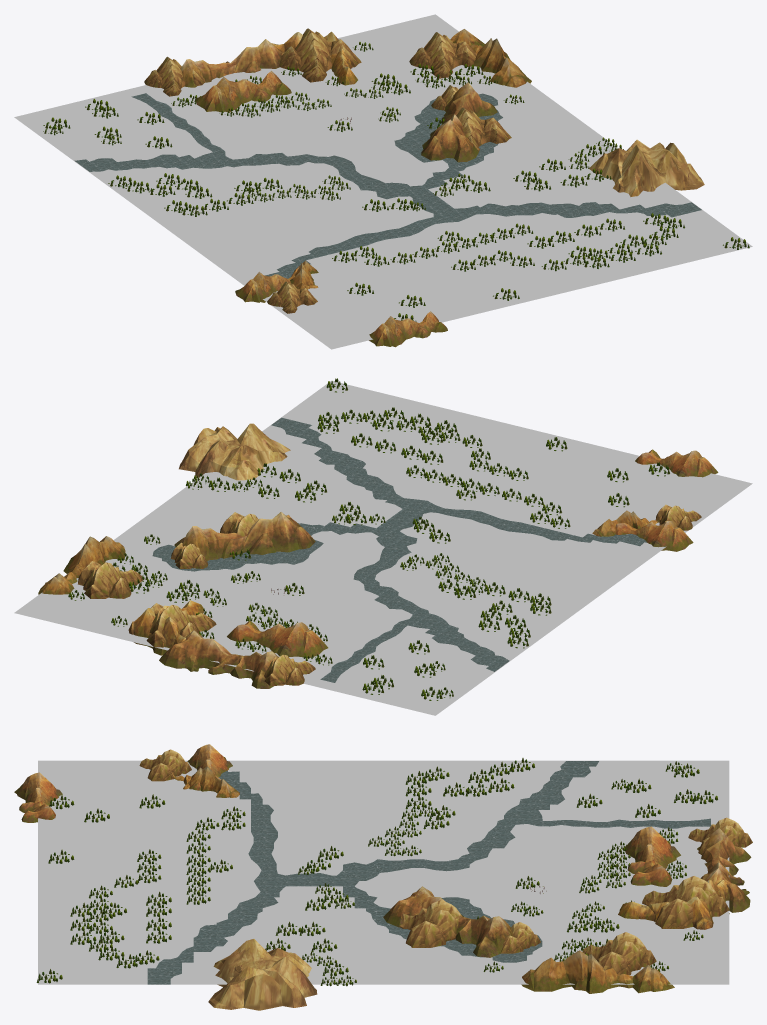
The model's file is mapbg.FBX.
The picture shows the model from 3 angles, top to bottom: view 1: azimuth 30°, elevation 25°; view 2: azimuth 150°, elevation 25°; view 3: azimuth 270°, elevation 25°; orthographic projection. The views are drawn at different scales.
Visible parts, largest first — view 1: Plane025, Plane026, map_impassable_mountain_x9, map_impassable_mountain_x10, map_impassable_mountain_x4_A, map_impassable_mountain_x8_A, map_impassable_mountain_x10_A, Object036, map_impassable_mountain_x4_A001, map_impassable_mountain_x011, map_impassable_mountain_x4, map_impassable_mountain_x4_A004 (+3 smaller); view 2: Plane025, Plane026, map_impassable_mountain_x9, map_impassable_mountain_x10, map_impassable_mountain_x10_A, map_impassable_mountain_x8_A, Object036, map_impassable_mountain_x4_A001, map_impassable_mountain_x4_A, map_impassable_mountain_x8, map_impassable_mountain_x6_A, map_impassable_mountain_x011 (+5 smaller); view 3: Plane025, Plane026, map_impassable_mountain_x9, Object036, map_impassable_mountain_x10, map_impassable_mountain_x4_A, map_impassable_mountain_x8_A, map_impassable_mountain_x10_A, map_impassable_mountain_x4, map_impassable_mountain_x4_A001, map_impassable_mountain_x011, map_impassable_mountain_x6_A (+5 smaller).
Boxes of the visible parts, x1,y1,x2,y2 form: Plane025: (14, 14, 752, 349); Plane026: (74, 93, 701, 278); map_impassable_mountain_x9: (589, 139, 704, 196); map_impassable_mountain_x10: (421, 82, 497, 162); map_impassable_mountain_x4_A: (279, 28, 361, 82); map_impassable_mountain_x8_A: (196, 71, 291, 112); map_impassable_mountain_x10_A: (181, 39, 284, 87); Object036: (450, 29, 531, 87); map_impassable_mountain_x4_A001: (409, 32, 476, 78); map_impassable_mountain_x011: (369, 311, 447, 347); map_impassable_mountain_x4: (456, 107, 511, 150); map_impassable_mountain_x4_A004: (144, 56, 205, 96); Plane025: (14, 380, 752, 715); Plane026: (152, 417, 665, 682); map_impassable_mountain_x9: (179, 423, 290, 480); map_impassable_mountain_x10: (174, 512, 315, 561); map_impassable_mountain_x10_A: (159, 630, 278, 688); map_impassable_mountain_x8_A: (227, 621, 328, 657); Object036: (38, 536, 125, 594); map_impassable_mountain_x4_A001: (78, 561, 144, 598); map_impassable_mountain_x4_A: (146, 603, 216, 647); map_impassable_mountain_x8: (615, 521, 693, 551); map_impassable_mountain_x6_A: (128, 600, 203, 655); map_impassable_mountain_x011: (635, 449, 718, 477); Plane025: (38, 760, 729, 984); Plane026: (147, 761, 710, 984); map_impassable_mountain_x9: (208, 939, 317, 1010); Object036: (521, 950, 674, 993); map_impassable_mountain_x10: (383, 886, 513, 957); map_impassable_mountain_x4_A: (642, 876, 729, 928); map_impassable_mountain_x8_A: (622, 826, 680, 886); map_impassable_mountain_x10_A: (697, 828, 751, 912); map_impassable_mountain_x4: (399, 900, 461, 947); map_impassable_mountain_x4_A001: (582, 932, 656, 975); map_impassable_mountain_x011: (14, 772, 62, 822); map_impassable_mountain_x6_A: (618, 879, 729, 929).
Bounding box in the file's own units: 51.68 × 4.2 × 64.11.
